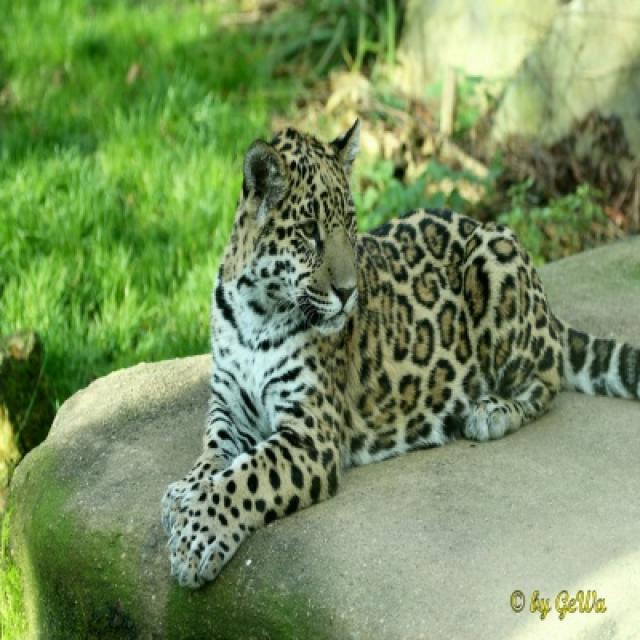Jaguar: (160, 123, 638, 594)
